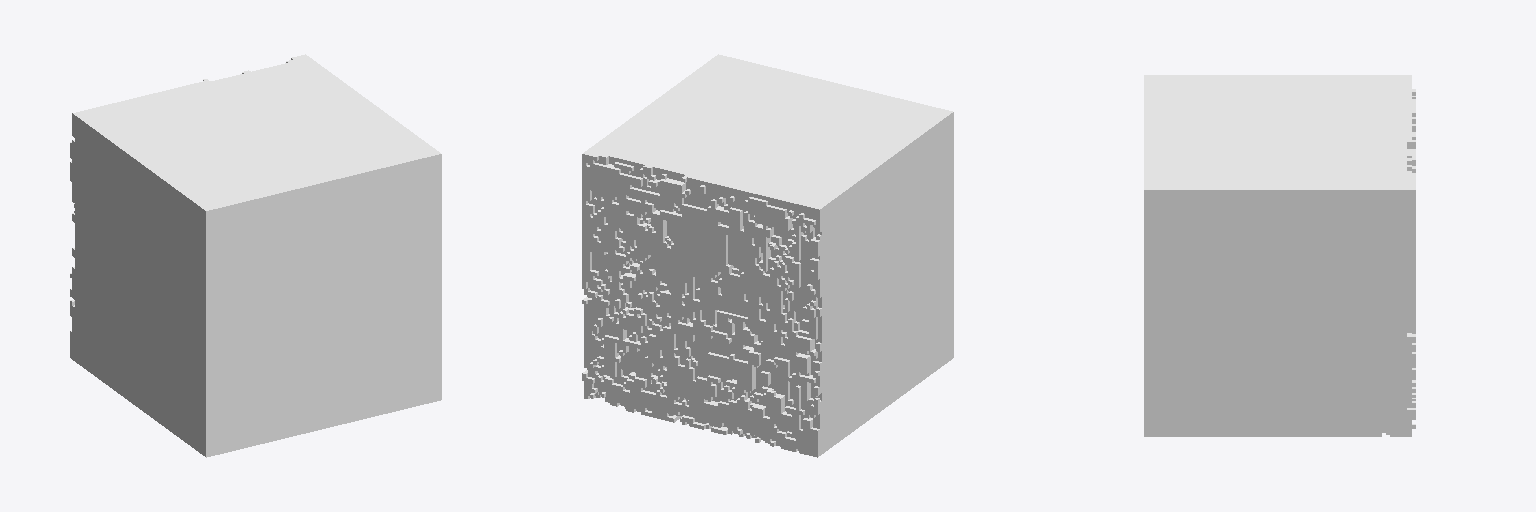
File: Tutorialmap_V2_unfinished-29.obj
3 views of the same model, side by side, from view 1: azimuth 30°, elevation 25°; view 2: azimuth 150°, elevation 25°; view 3: azimuth 270°, elevation 25° (orthographic).
Visible parts, largest first — view 1: object 1; view 2: object 1; view 3: object 1.
Part boxes in pixels (x1,y1,x2,y2): object 1: (70,54,441,457); object 1: (582,54,953,457); object 1: (1144,75,1415,436).
Bounding box in the file's own units: 6.4 × 6.4 × 6.4.